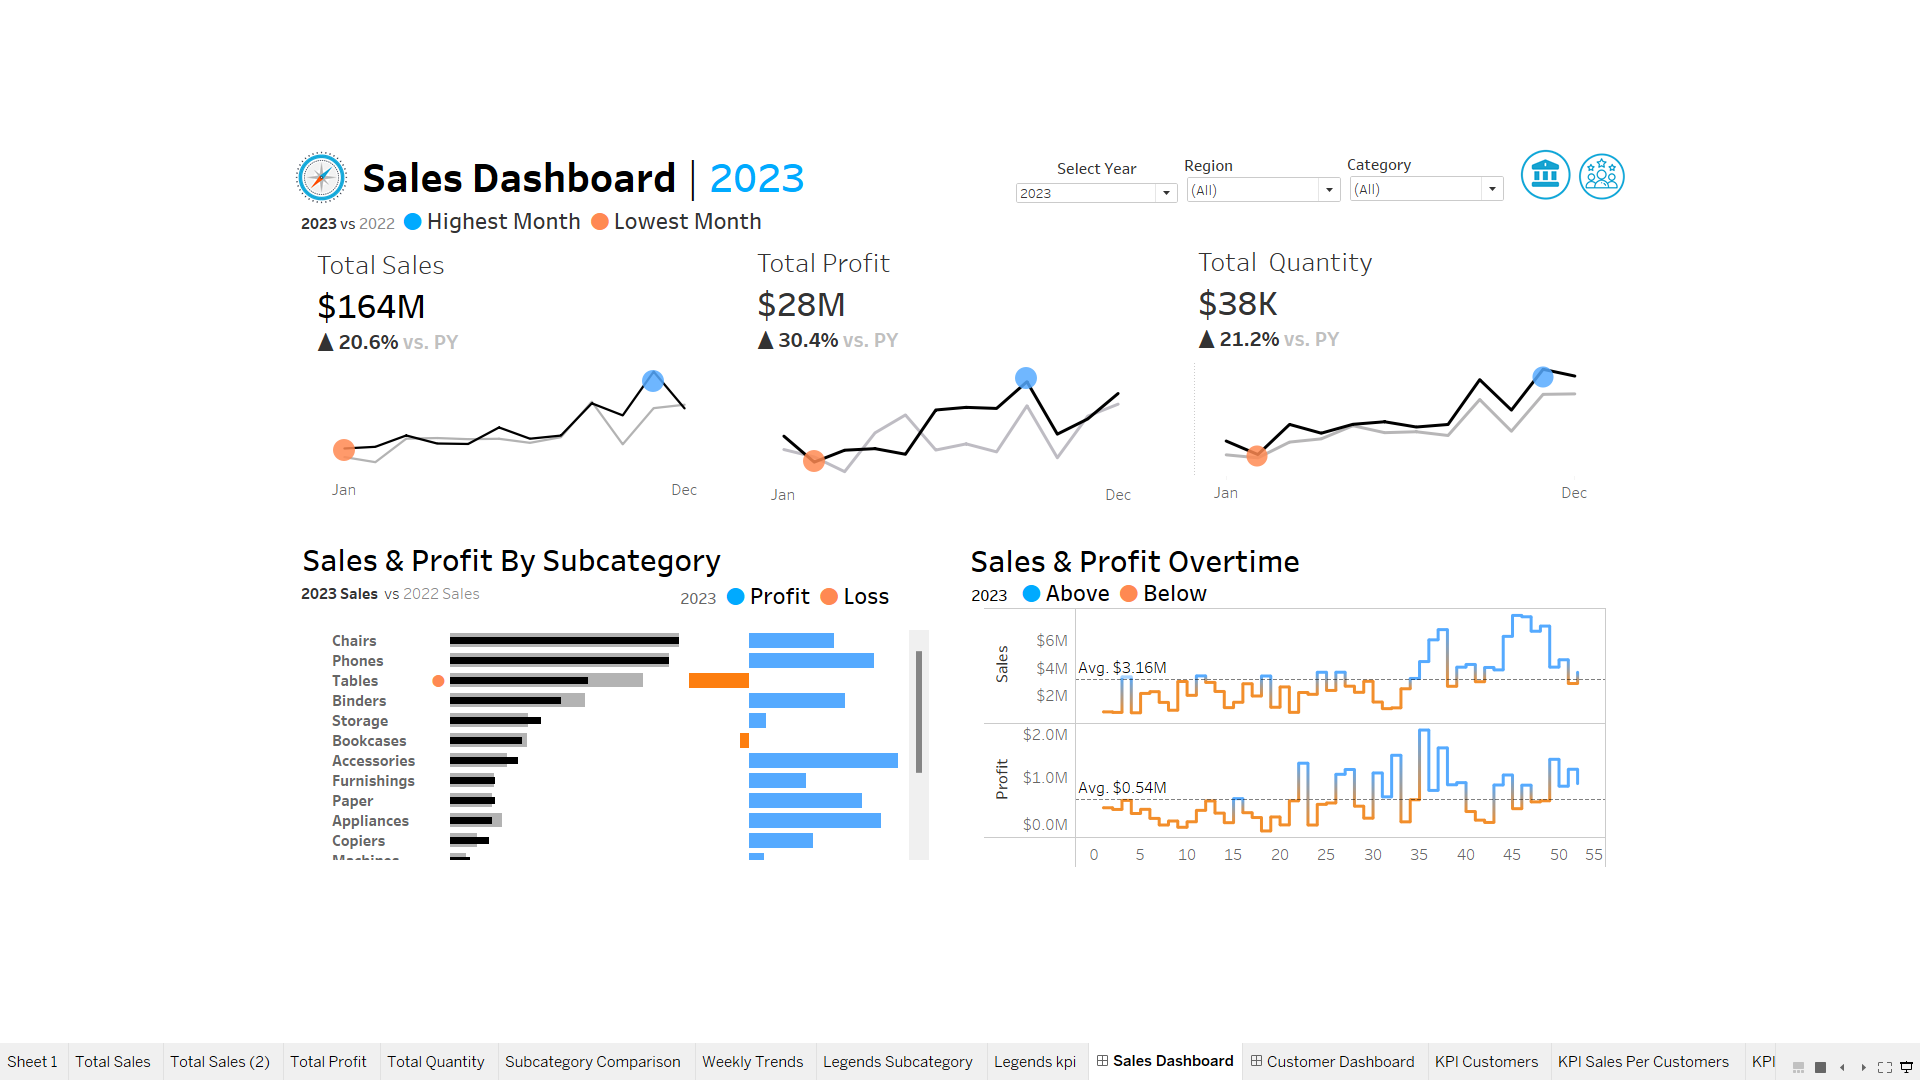

What the dashboard file says about the page in this screenshot:
{"tool":"tableau","page":{"name":"Sales Dashboard","canvas":[1366,768],"ordinal":1},"visuals":[{"type":"text","box":[82,12,582,54]},{"type":"dashboard-object","box":[1241,12,55,51]},{"type":"image","param":"C:/Users/Victus/OneDrive/Desktop/Tablue project/Sales Dashboard Materials/Dashbo","box":[12,13,67,54]},{"type":"dashboard-object","box":[1299,15,51,48]},{"type":"filter","title":"Total Profit","param":"[federated.0wdwtrh17d9926162kgl203i367r].[none:Category:nk]","box":[1070,17,160,47]},{"type":"filter","title":"Total Profit","param":"[federated.0wdwtrh17d9926162kgl203i367r].[none:Region:nk]","box":[907,18,160,47]},{"type":"parameter","param":"[Parameters].[Parameter 1]","box":[736,21,168,48]},{"type":"worksheet","title":"Legends kpi","mark":"Automatic","box":[20,71,574,25]},{"type":"blank","box":[16,96,397,293]},{"type":"worksheet","title":"Total Quantity","mark":"Automatic","rows":["Calculation_1664361583761309703"],"cols":["Order Date"],"box":[900.4,96,446.2,289]},{"type":"blank","box":[453.1,97,441.7,292.8]},{"type":"worksheet","title":"Total Profit","mark":"Automatic","rows":["Calculation_1664361583761113094"],"cols":["Order Date"],"box":[458.7,97,429.2,289.9]},{"type":"blank","box":[900.4,97.9,448.5,292.8]},{"type":"worksheet","title":"Total Sales","mark":"Automatic","rows":["Calculation_215046928562515972"],"cols":["Order Date"],"box":[19,99,436,284]},{"type":"text","box":[21.6,403.2,662.5,38.4]},{"type":"blank","box":[687.5,404.2,661.4,345.6]},{"type":"text","box":[689.8,404.2,656.8,38.4]},{"type":"blank","box":[19.4,405.1,665.9,345.6]},{"type":"worksheet","title":"Legends Subcategory","mark":"Automatic","box":[20.5,440.6,343.8,30.7]},{"type":"text","box":[399.6,441.6,269.8,30.7]},{"type":"text","box":[691,441.6,650,25.9]},{"type":"worksheet","title":"Weekly Trends","mark":"Automatic","rows":["Calculation_215046928550486016","CY Sales (copy)_1664361583759044608"],"cols":["Order Date"],"box":[694.4,467.5,647.7,276.5]},{"type":"worksheet","title":"Subcategory Comparison","mark":"Bar","rows":["Sub-Category","Calculation_1664361583963705358"],"cols":["CY Sales (copy)_215046928550985729","Calculation_215046928550486016","CY Sales (copy)_1664361583759044608"],"box":[23,477,655,272]}]}

Visuals, with their boxes on the page's 1366x768 design canvas (x1, y1, x2, y2). These are canvas units, not pixel positions in the 1920x1080 screenshot, which may show the page scaled, cropped or inside an application window:
text: 82,12,664,66
dashboard-object: 1241,12,1296,63
image: 12,13,79,67
dashboard-object: 1299,15,1350,63
"Total Profit" filter: 1070,17,1230,64
"Total Profit" filter: 907,18,1067,65
parameter: 736,21,904,69
"Legends kpi" worksheet: 20,71,594,96
blank: 16,96,413,389
"Total Quantity" worksheet: 900,96,1347,385
blank: 453,97,895,390
"Total Profit" worksheet: 459,97,888,387
blank: 900,98,1349,391
"Total Sales" worksheet: 19,99,455,383
text: 22,403,684,442
blank: 688,404,1349,750
text: 690,404,1347,443
blank: 19,405,685,751
"Legends Subcategory" worksheet: 20,441,364,471
text: 400,442,669,472
text: 691,442,1341,468
"Weekly Trends" worksheet: 694,468,1342,744
"Subcategory Comparison" worksheet (Bar marks): 23,477,678,749
